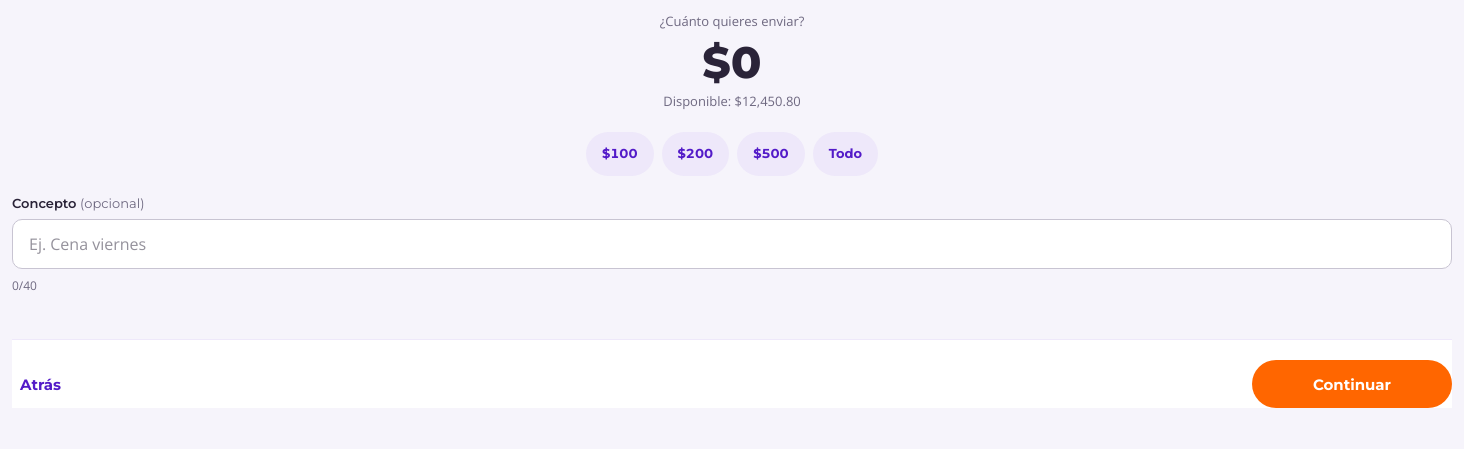
Test: AmountStep › shows the balance message for an amount over the balance
Check: the text "Disponible: $12,450.80" is shown, box x1=663 y1=92 x2=801 y2=112
Type "12450.81" into the field labelled "¿Cuánto quieres enviar?" at (746, 62), box x1=731 y1=36 x2=762 y2=88
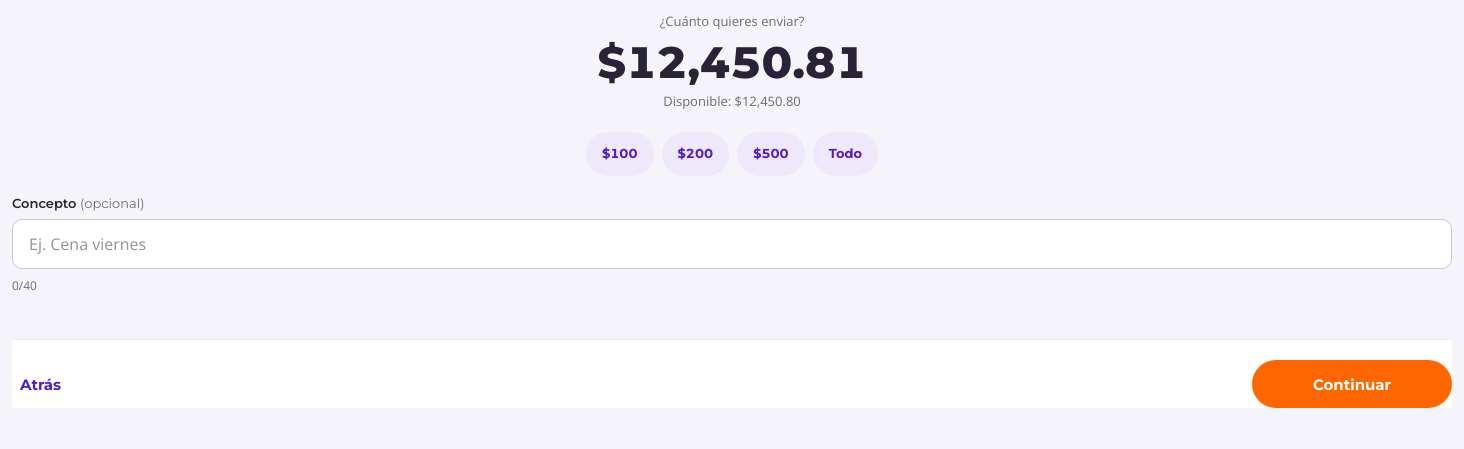
Click the button "Continuar" at (1352, 384), box x1=1252 y1=360 x2=1452 y2=408
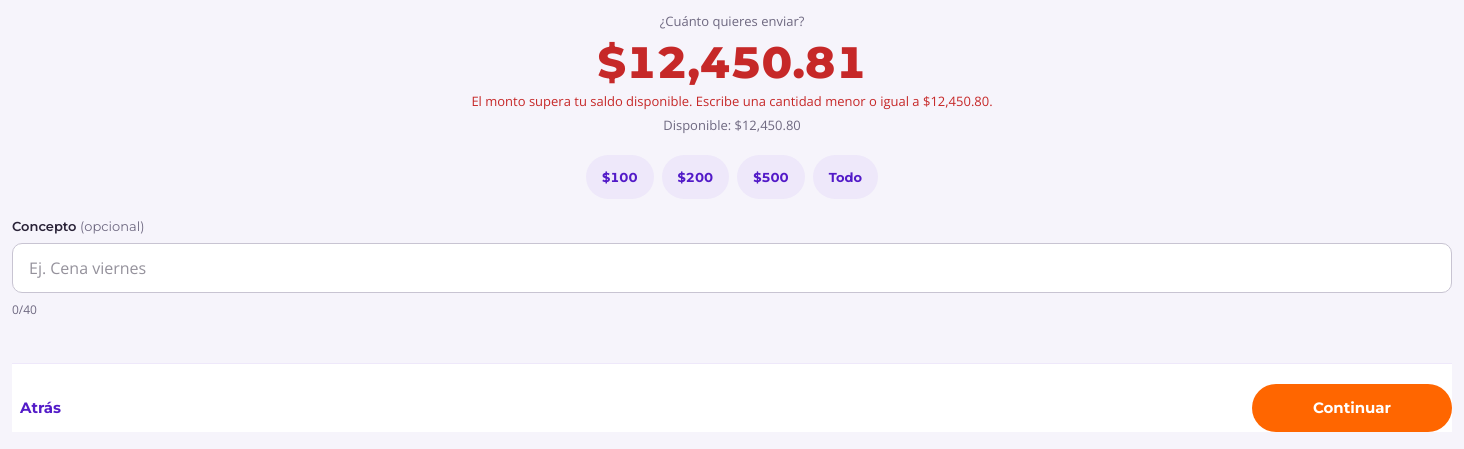
Check: the text "El monto supera tu saldo disponible. Escribe una cantidad menor o igual a $12,450.80." is shown, box x1=471 y1=92 x2=993 y2=110
